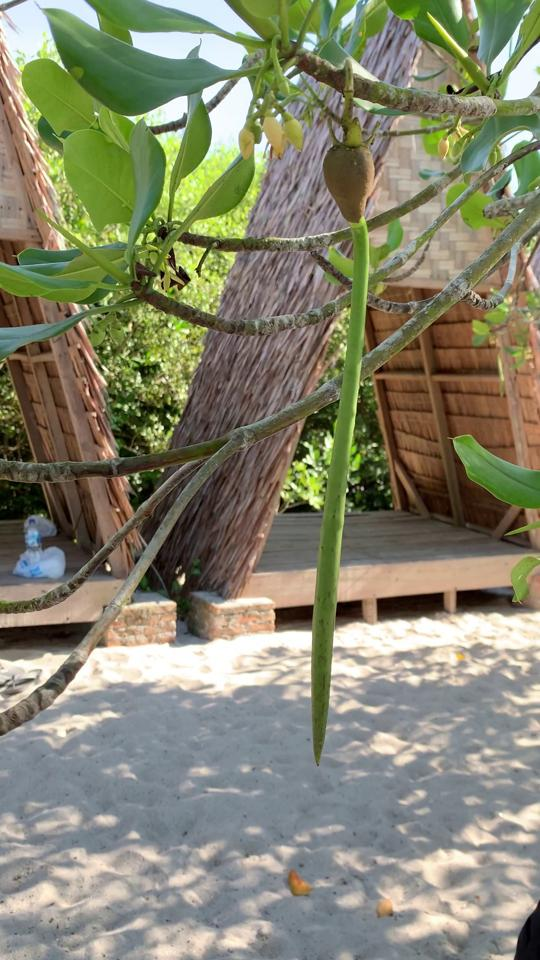setengah matang: (306, 126, 382, 777)
